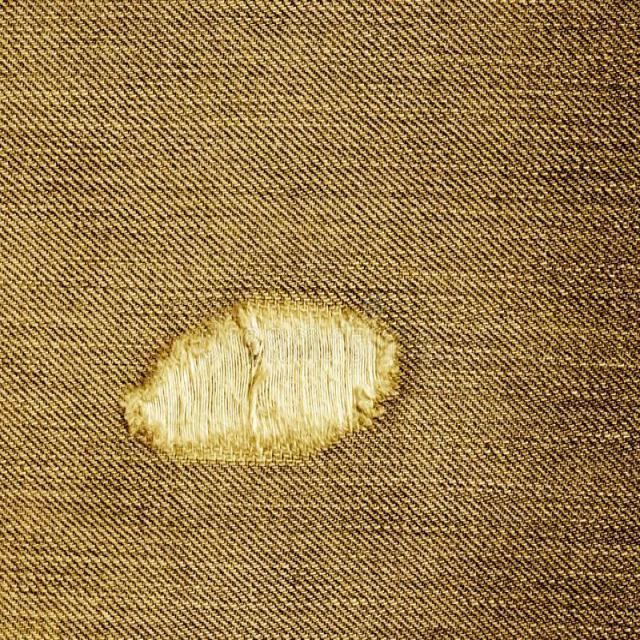Hole: (124, 301, 399, 462)
